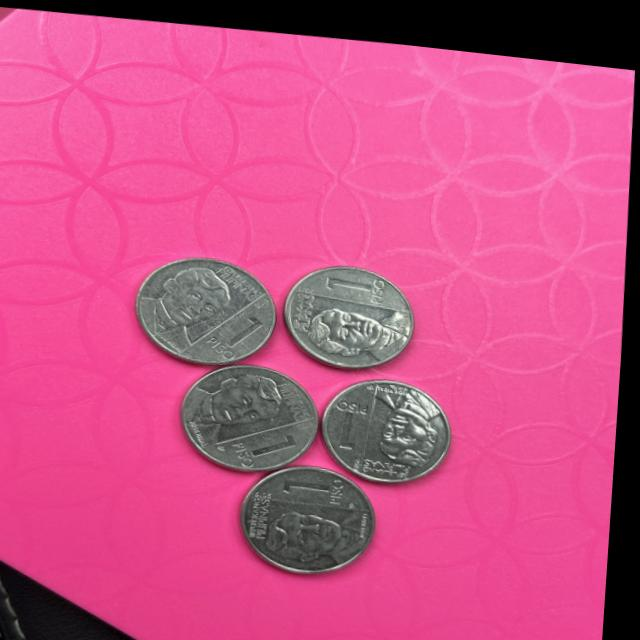1_New_Front: (236, 414, 316, 464), (324, 384, 384, 450), (320, 260, 397, 309), (284, 459, 361, 501), (209, 300, 266, 355)
